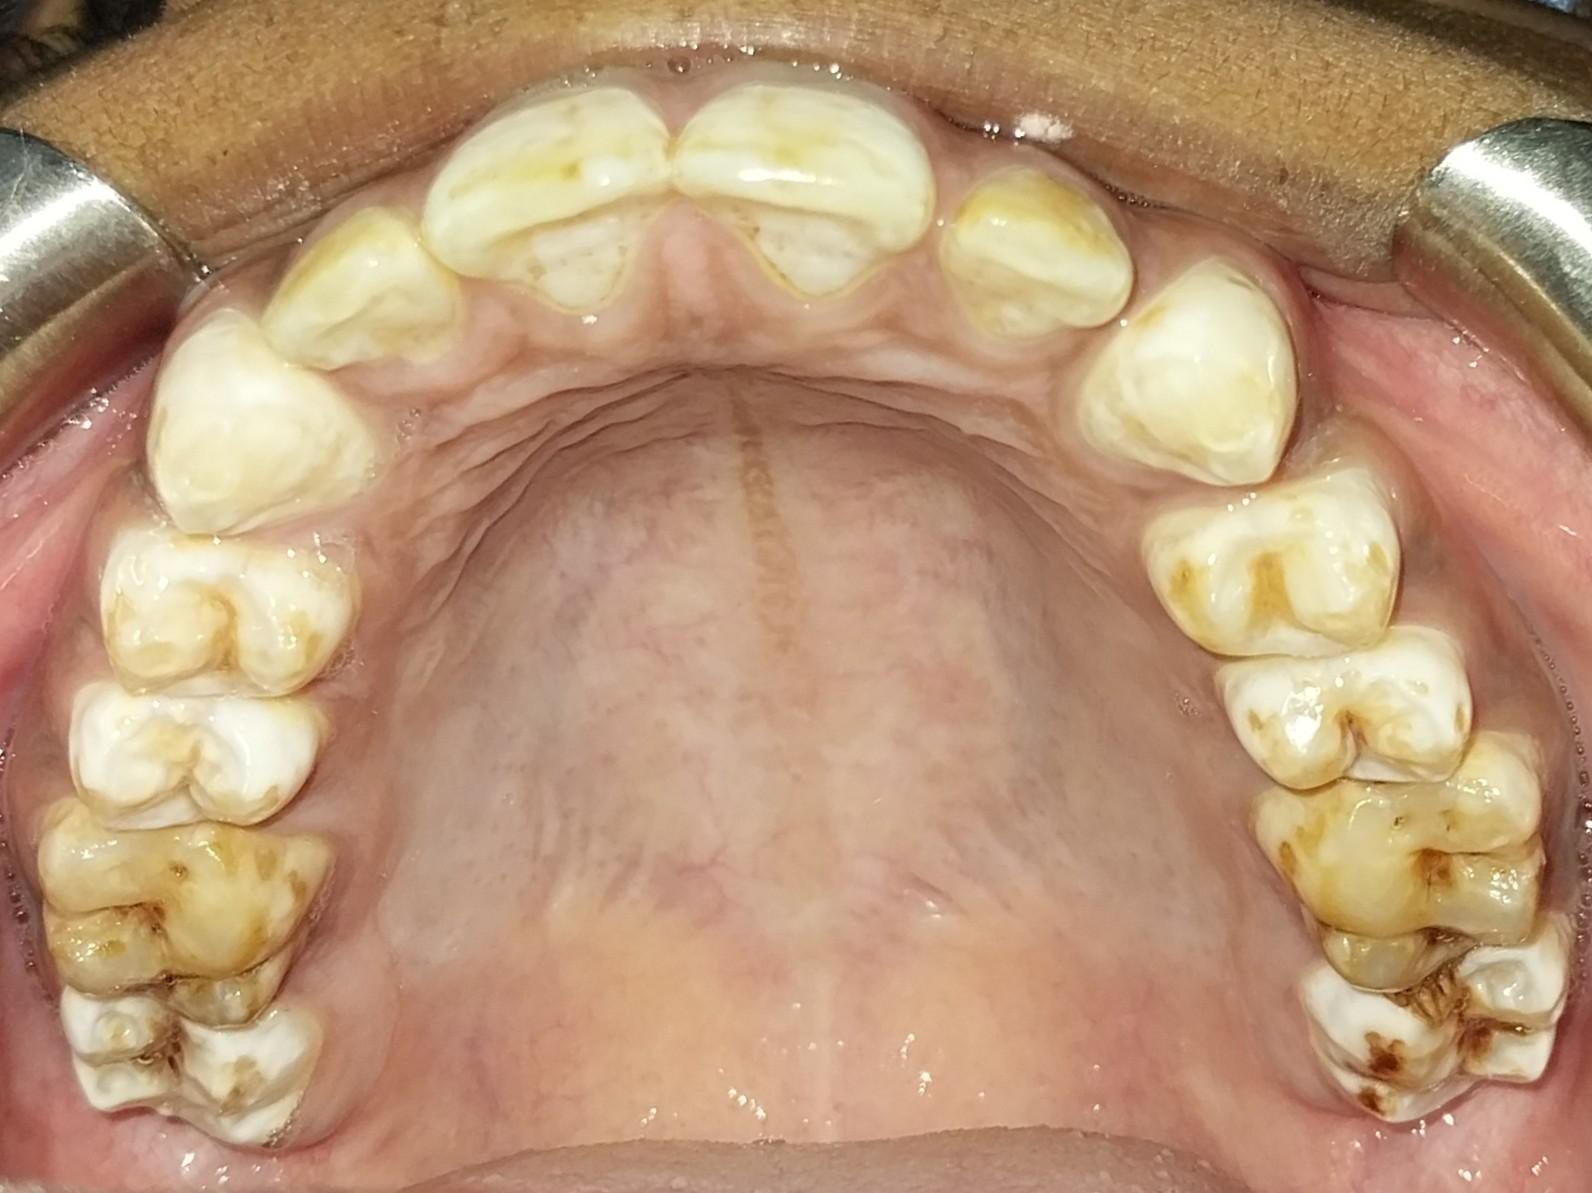D: (1257, 731, 1547, 970), (34, 805, 326, 1028), (1297, 928, 1566, 1125), (50, 985, 323, 1147)
